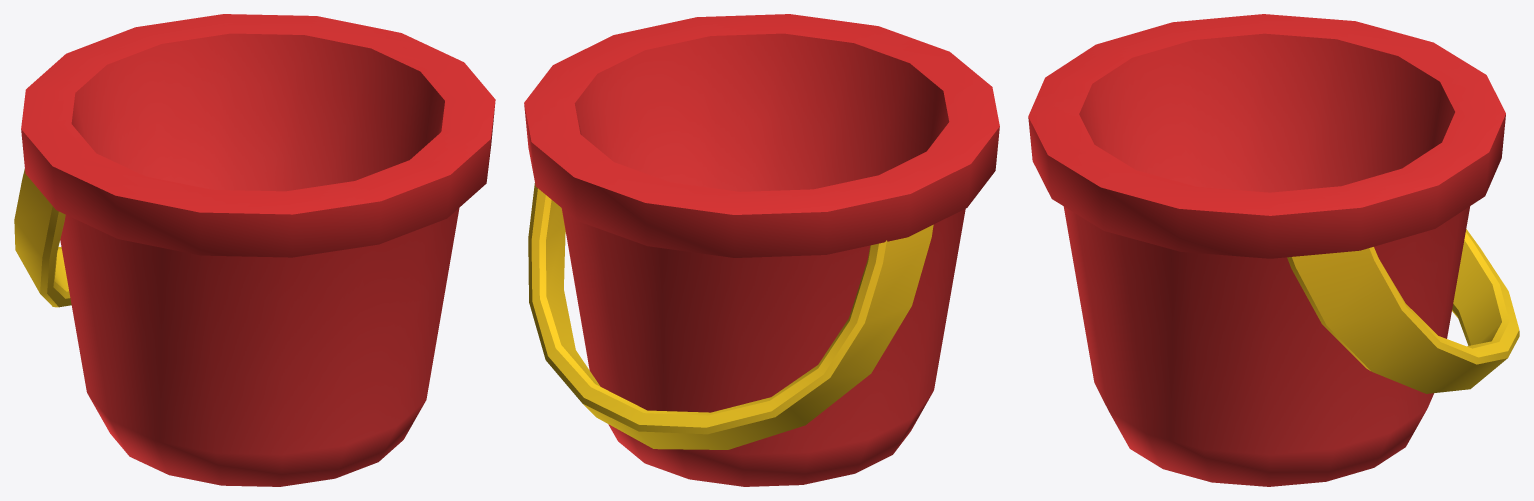
File: kova.fbx
The picture shows the model from 3 angles, left to right: view 1: azimuth 30°, elevation 25°; view 2: azimuth 150°, elevation 25°; view 3: azimuth 270°, elevation 25°; orthographic projection.
Parts seen in each view (by area): view 1: kova; view 2: kova; view 3: kova.
Boxes of the visible parts, bbox=[...] form: kova: bbox=[14, 14, 495, 486]; kova: bbox=[524, 14, 999, 486]; kova: bbox=[1028, 14, 1519, 486].
Size of the model in its own units: 158 by 120 by 163.
